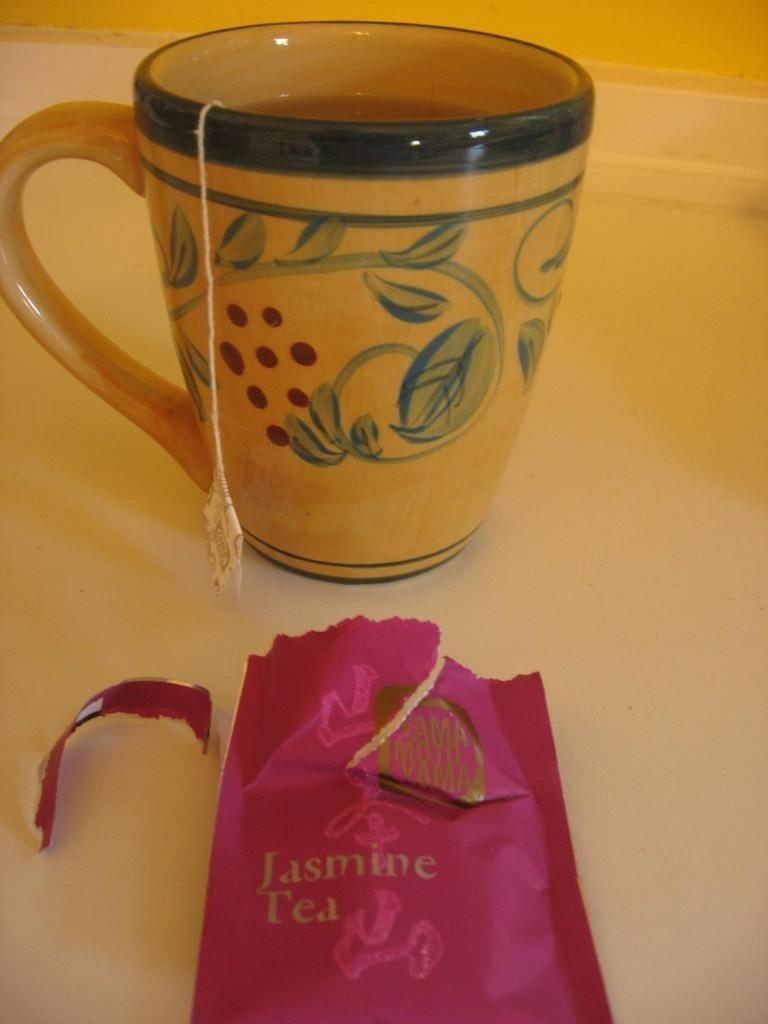cup-handle: (1, 15, 597, 583)
